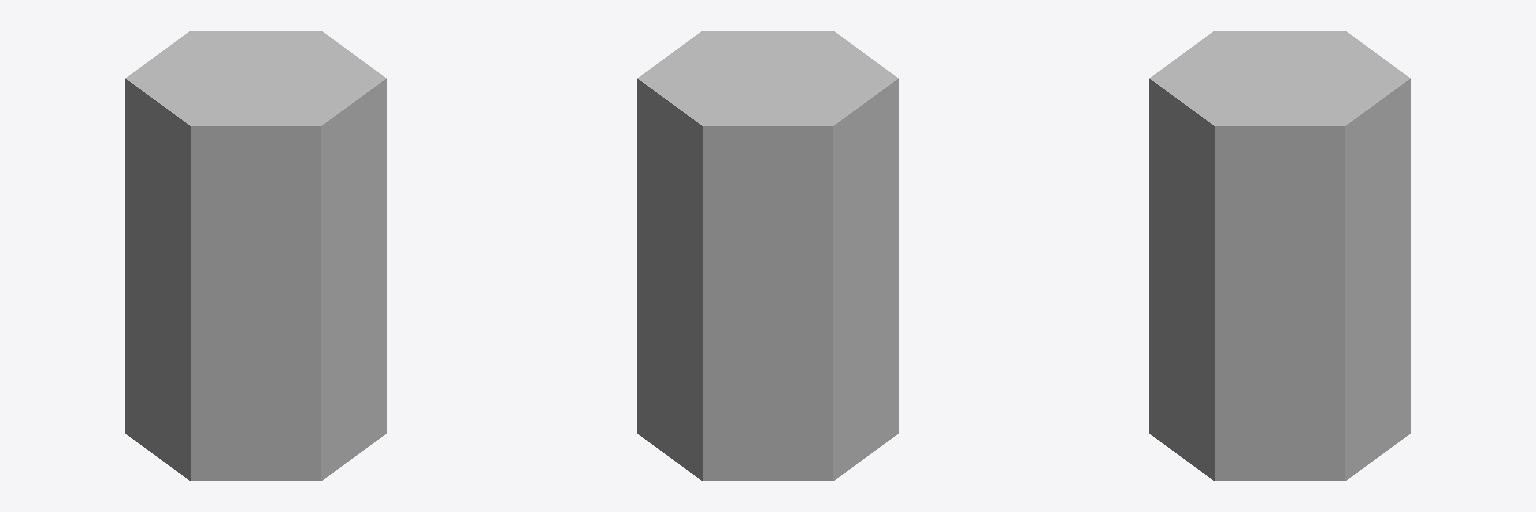
File: DirtTile.obj
3 views of the same model, side by side, from view 1: azimuth 30°, elevation 25°; view 2: azimuth 150°, elevation 25°; view 3: azimuth 270°, elevation 25° (orthographic).
Visible parts, largest first — view 1: Cylinder.001; view 2: Cylinder.001; view 3: Cylinder.001.
Boxes of the visible parts, <box> form: Cylinder.001: <box>125,31,386,480</box>; Cylinder.001: <box>637,31,898,480</box>; Cylinder.001: <box>1149,31,1410,480</box>.
Bounding box in the file's own units: 1.73 × 3 × 2.